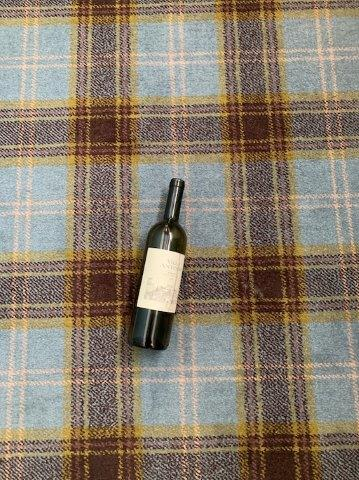botolkaca: (128, 178, 186, 350)
